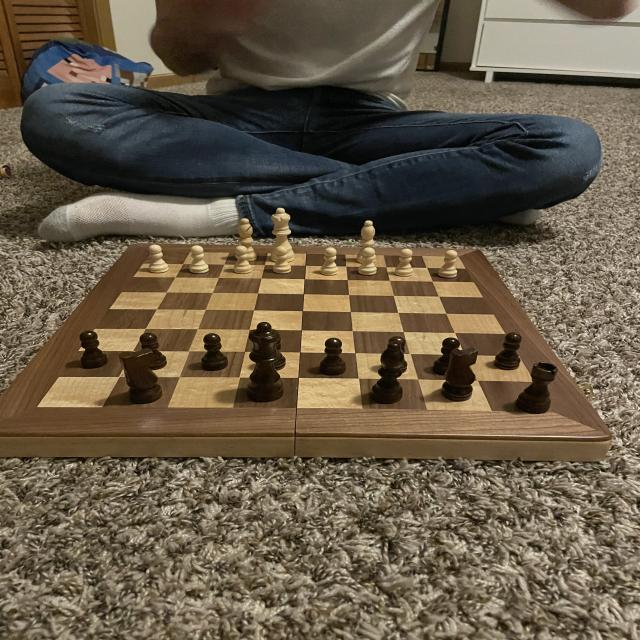bishop: (369, 339, 410, 407)
black-king: (118, 345, 168, 405), (437, 344, 481, 404)
black-knight: (75, 328, 112, 371), (316, 336, 352, 379), (196, 329, 231, 372), (134, 331, 170, 371), (491, 331, 526, 372), (380, 334, 412, 376), (433, 335, 464, 375), (264, 328, 289, 372)
black-pawn: (241, 321, 290, 403)
black-queen: (510, 360, 561, 419)
black-rook: (354, 218, 380, 266), (234, 218, 261, 263)
white-knight: (433, 248, 464, 280), (145, 243, 173, 276), (354, 246, 381, 276), (185, 244, 211, 274), (271, 243, 295, 274), (231, 244, 253, 276), (320, 245, 340, 278), (392, 246, 414, 276)
white-pawn: (267, 206, 297, 265)
